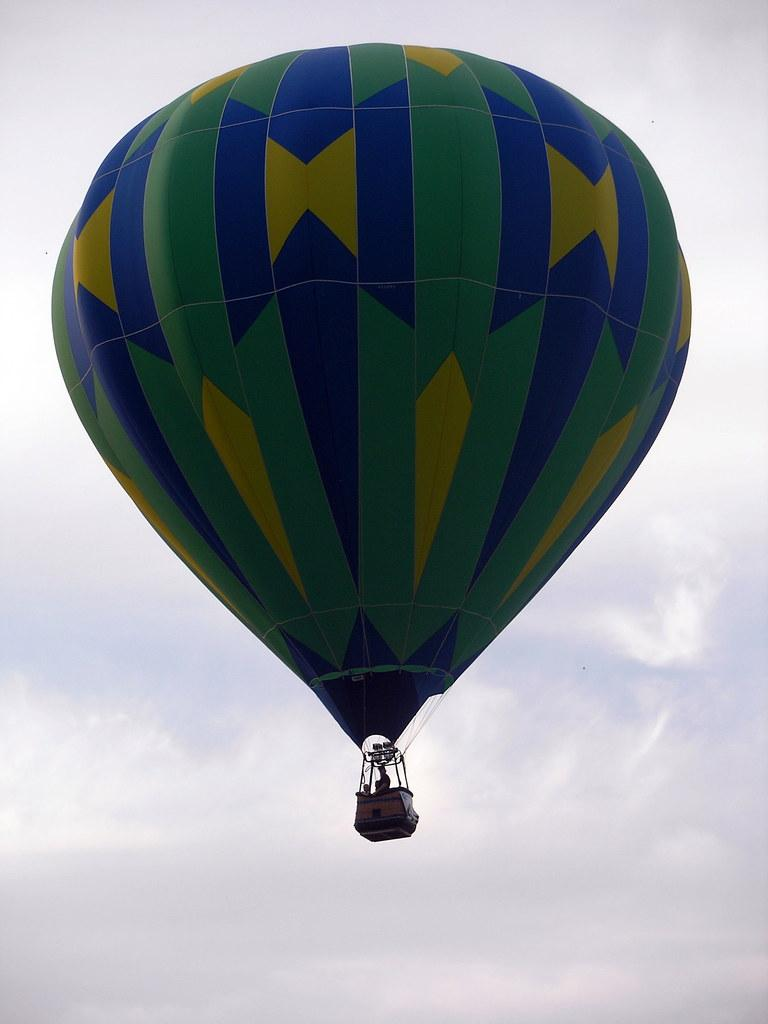balloon: (50, 41, 693, 843)
